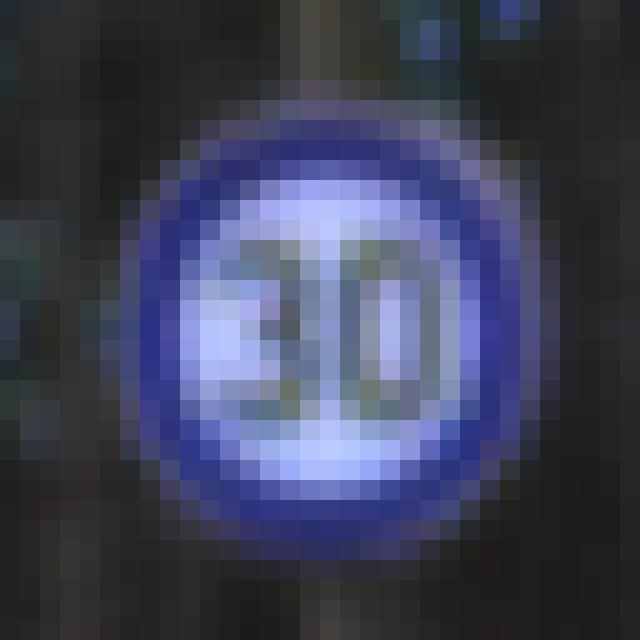SPEED LIMIT 30: (125, 117, 549, 552)
